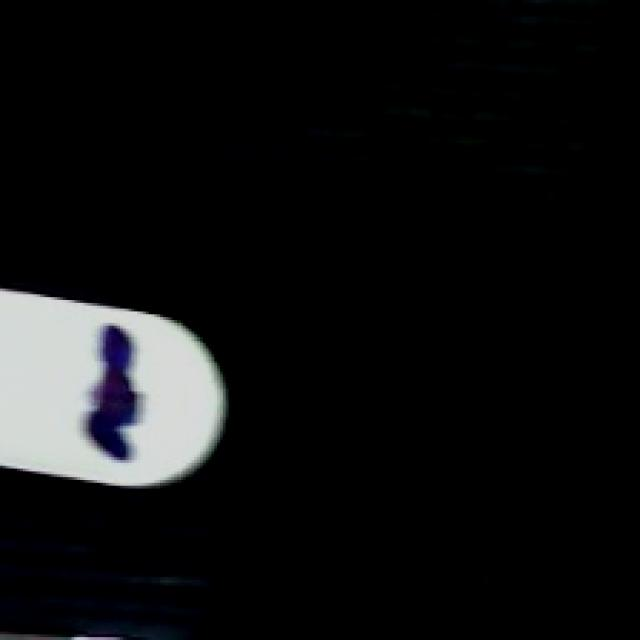defected: (0, 282, 234, 488)
